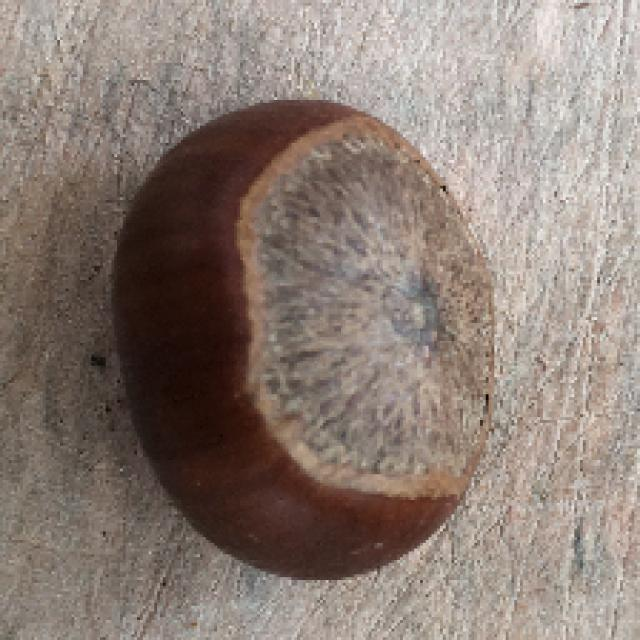damagedHazelnut: (80, 88, 524, 583)
